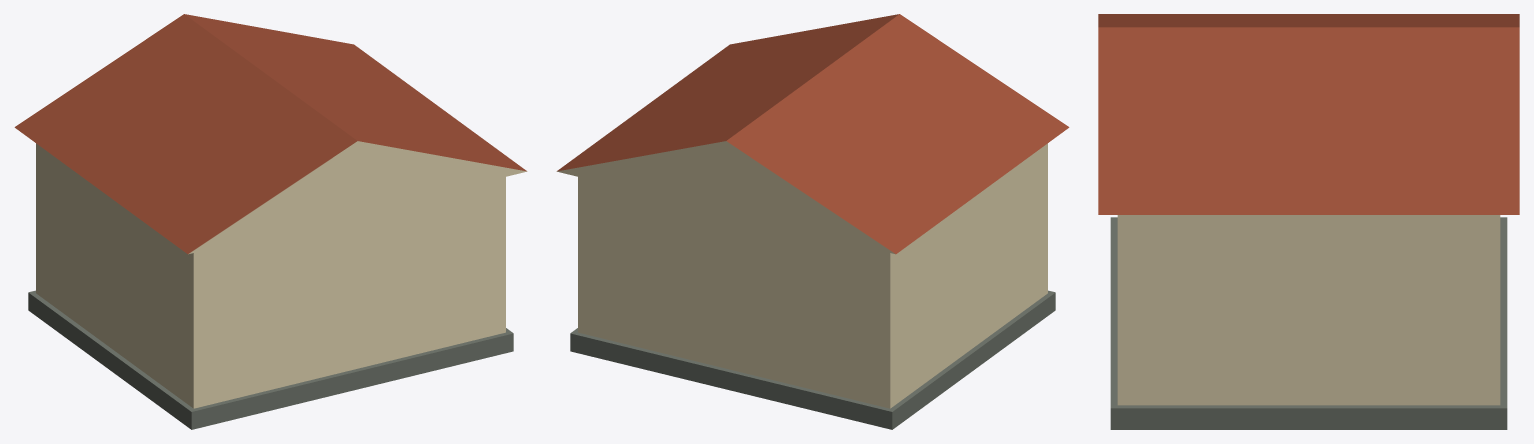
The model's file is house_rural_lod2.obj.
3 views of the same model, side by side, from view 1: azimuth 30°, elevation 25°; view 2: azimuth 150°, elevation 25°; view 3: azimuth 270°, elevation 25° (orthographic). The views are drawn at different scales.
Visible parts, largest first — view 1: house_rural_lod2; view 2: house_rural_lod2; view 3: house_rural_lod2.
Part boxes in pixels (box(x1,y1,x2,y2)): house_rural_lod2: box(14, 14, 527, 429); house_rural_lod2: box(556, 14, 1069, 429); house_rural_lod2: box(1098, 14, 1519, 429).
Bounding box in the file's own units: 8.7 × 6.2 × 7.7.
Materials: 1 (1 with a texture image).
